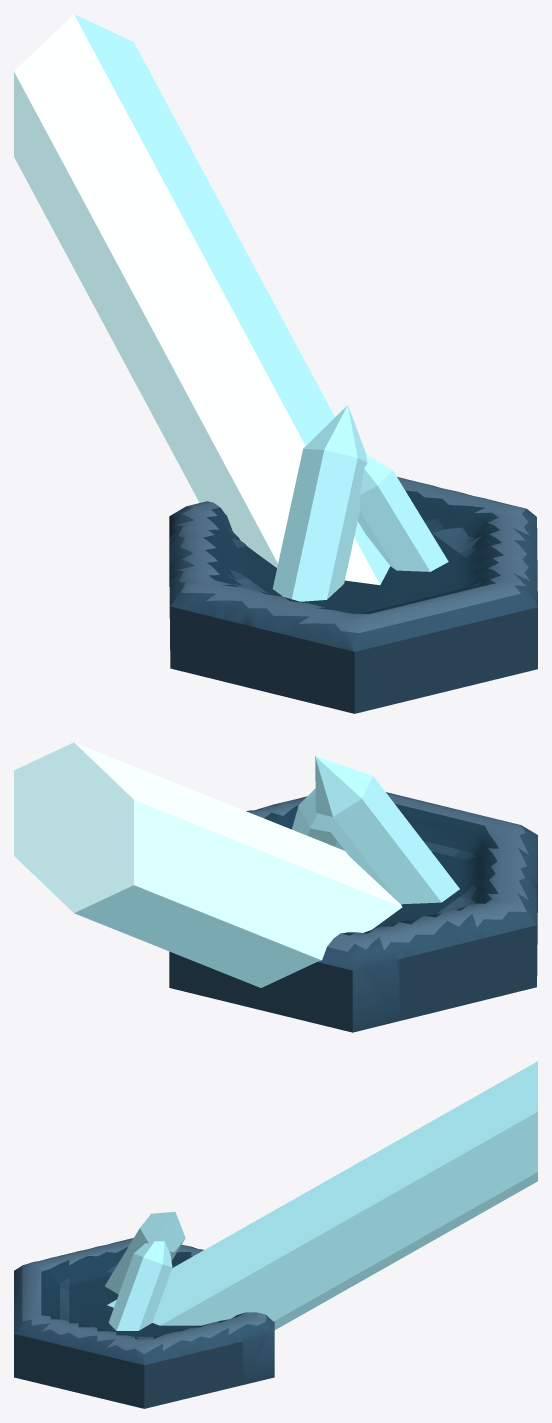
The model's file is fruit_crystal_b.glb.
3 renders of one model, top to bottom at view 1: azimuth 30°, elevation 25°; view 2: azimuth 150°, elevation 25°; view 3: azimuth 270°, elevation 25°, orthographic. The views are drawn at different scales.
Parts seen in each view (by area): view 1: fruit_crystal_b_crystal, fruit_crystal_b_socket, fruit_crystal_b_shard0, fruit_crystal_b_shard1; view 2: fruit_crystal_b_crystal, fruit_crystal_b_socket, fruit_crystal_b_shard0, fruit_crystal_b_shard1; view 3: fruit_crystal_b_crystal, fruit_crystal_b_socket, fruit_crystal_b_shard1, fruit_crystal_b_shard0.
Part boxes in pixels (x1=…): fruit_crystal_b_crystal: x1=14, y1=14, x2=390, y2=584; fruit_crystal_b_socket: x1=169, y1=477, x2=537, y2=713; fruit_crystal_b_shard0: x1=272, y1=405, x2=367, y2=601; fruit_crystal_b_shard1: x1=358, y1=454, x2=448, y2=571; fruit_crystal_b_crystal: x1=14, y1=742, x2=402, y2=987; fruit_crystal_b_socket: x1=169, y1=792, x2=537, y2=1032; fruit_crystal_b_shard0: x1=315, y1=756, x2=459, y2=904; fruit_crystal_b_shard1: x1=292, y1=788, x2=344, y2=850; fruit_crystal_b_crystal: x1=107, y1=1061, x2=537, y2=1329; fruit_crystal_b_socket: x1=14, y1=1238, x2=274, y2=1408; fruit_crystal_b_shard1: x1=108, y1=1241, x2=172, y2=1330; fruit_crystal_b_shard0: x1=105, y1=1212, x2=185, y2=1294.
Size of the model in its own units: 15.89 by 16.76 by 27.94.
